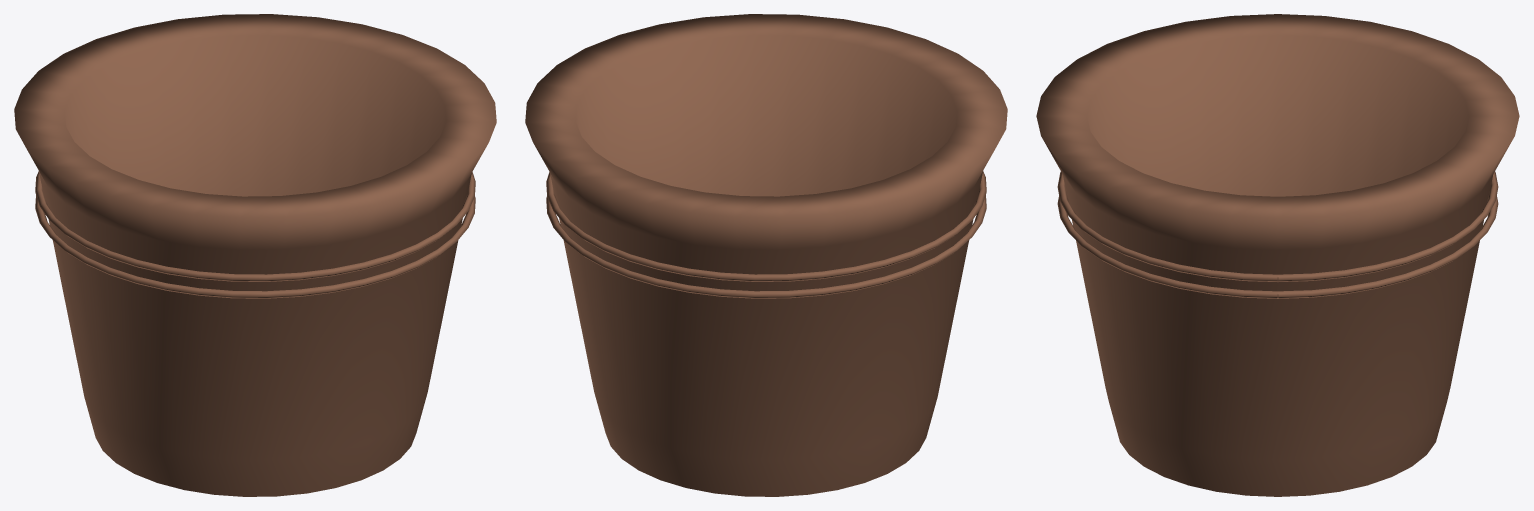
File: cup_silvanus.glb
3 renders of one model, left to right at view 1: azimuth 30°, elevation 25°; view 2: azimuth 150°, elevation 25°; view 3: azimuth 270°, elevation 25°, orthographic.
Parts seen in each view (by area): view 1: cup_silvanus; view 2: cup_silvanus; view 3: cup_silvanus.
Part boxes in pixels (left/top/right/bottom): cup_silvanus: left=14, top=14, right=496, bottom=496; cup_silvanus: left=525, top=14, right=1007, bottom=496; cup_silvanus: left=1036, top=14, right=1519, bottom=496.
Size of the model in its own units: 0.21 by 0.15 by 0.21.
